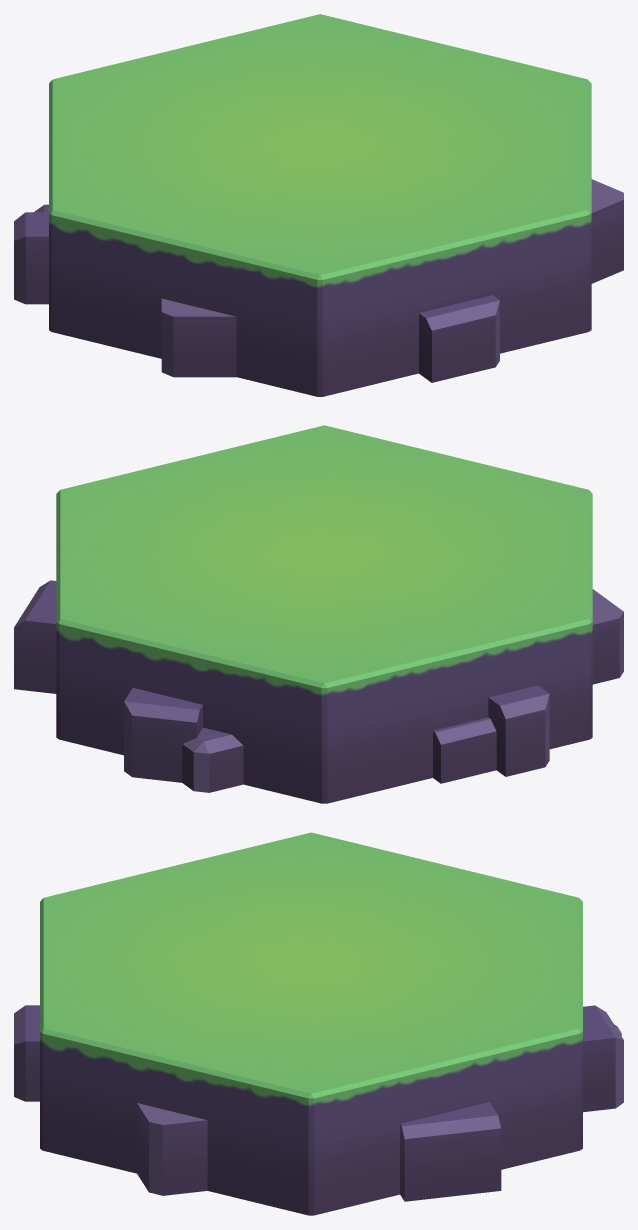
File: Grass_Hexagon.fbx
The picture shows the model from 3 angles, top to bottom: view 1: azimuth 30°, elevation 25°; view 2: azimuth 150°, elevation 25°; view 3: azimuth 270°, elevation 25°; orthographic projection.
Visible parts, largest first — view 1: Grass_Hexagon; view 2: Grass_Hexagon; view 3: Grass_Hexagon.
Part boxes in pixels (box(x1,y1,x2,y2)): Grass_Hexagon: box(14, 14, 623, 396); Grass_Hexagon: box(14, 425, 623, 803); Grass_Hexagon: box(14, 832, 623, 1215).
Bounding box in the file's own units: 22.07 × 4.71 × 21.58.
1 material, 1 textured.
